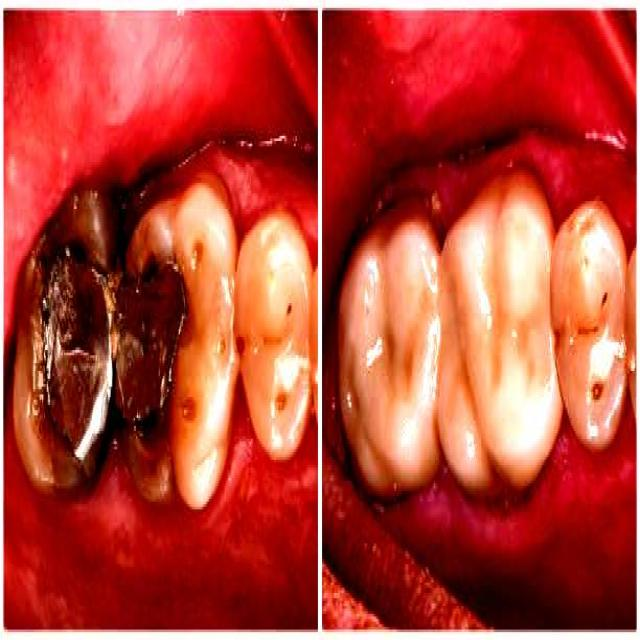caries: (114, 162, 236, 518), (8, 168, 115, 511), (577, 271, 615, 348), (585, 362, 619, 432), (232, 318, 256, 398), (272, 375, 293, 435)
